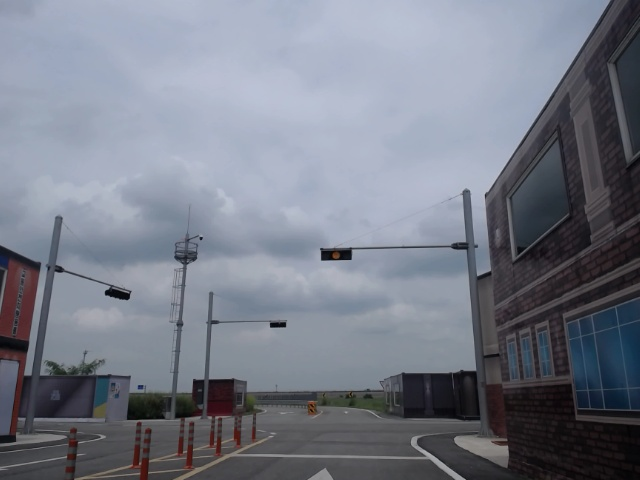orange_3: (321, 250, 352, 260)
